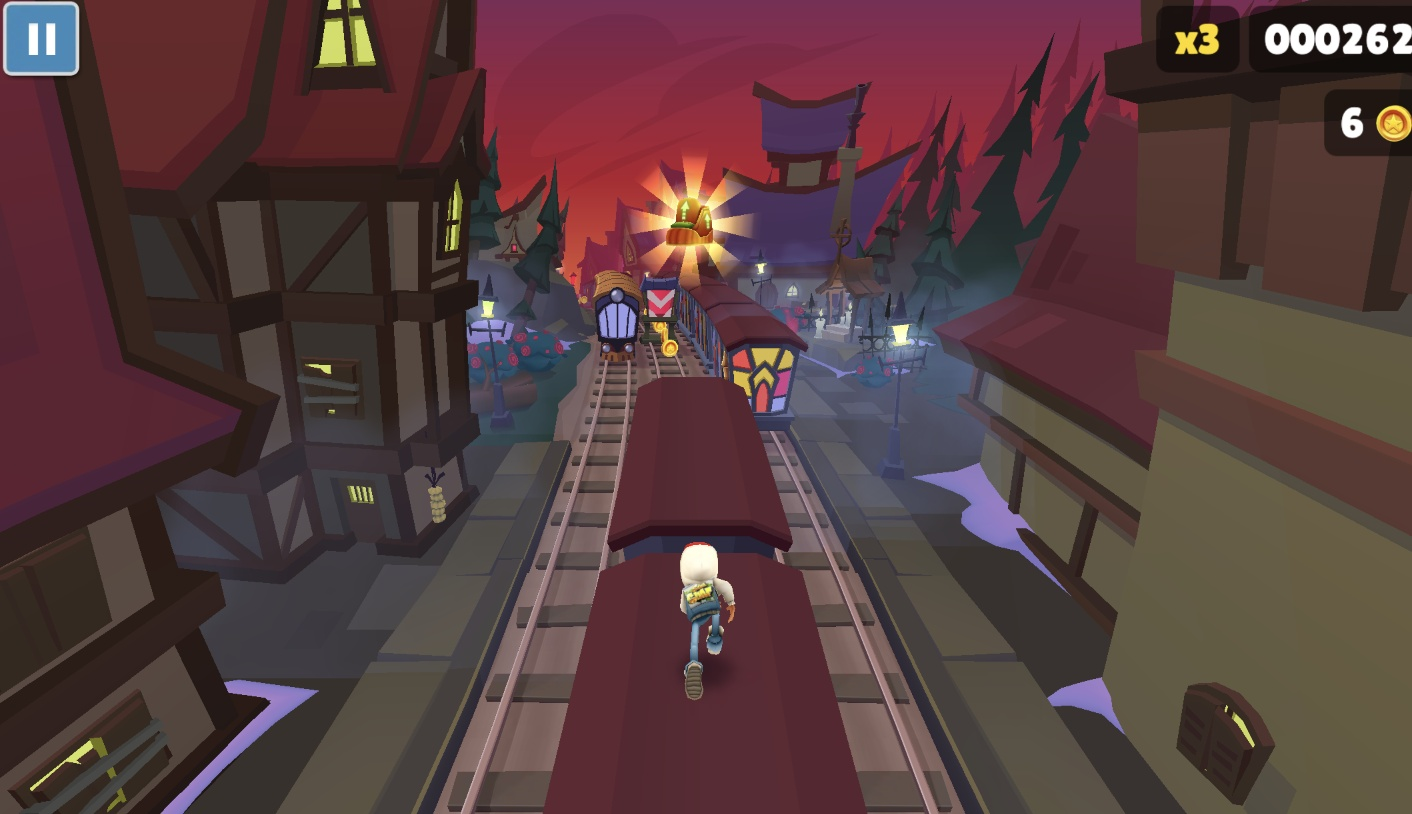overhead_barrier: (641, 277, 679, 341)
train: (540, 377, 866, 814), (676, 274, 809, 432), (588, 271, 646, 361)
